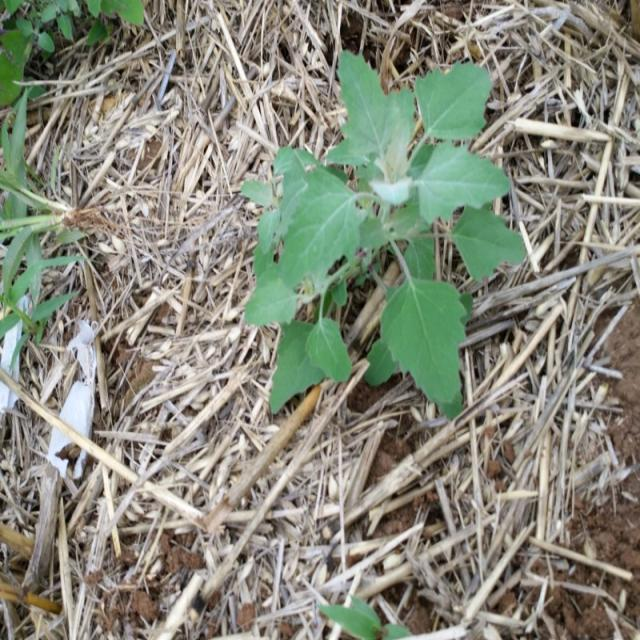goosefoots: (242, 59, 508, 384)
